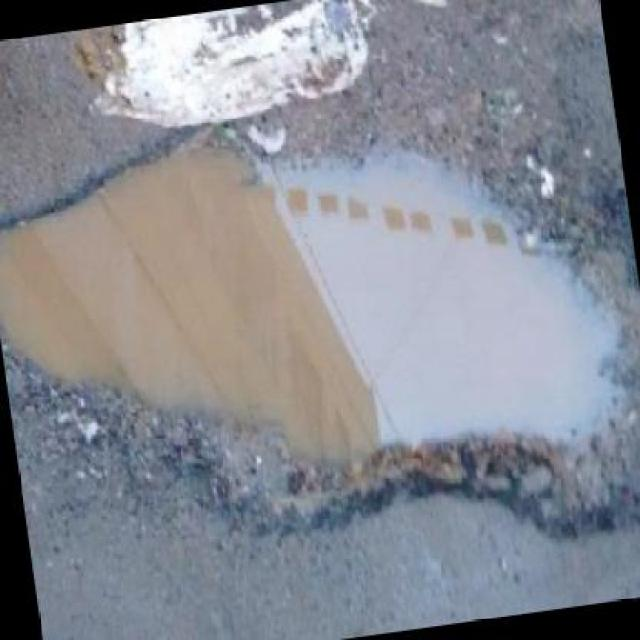pothole: (0, 62, 638, 625)
